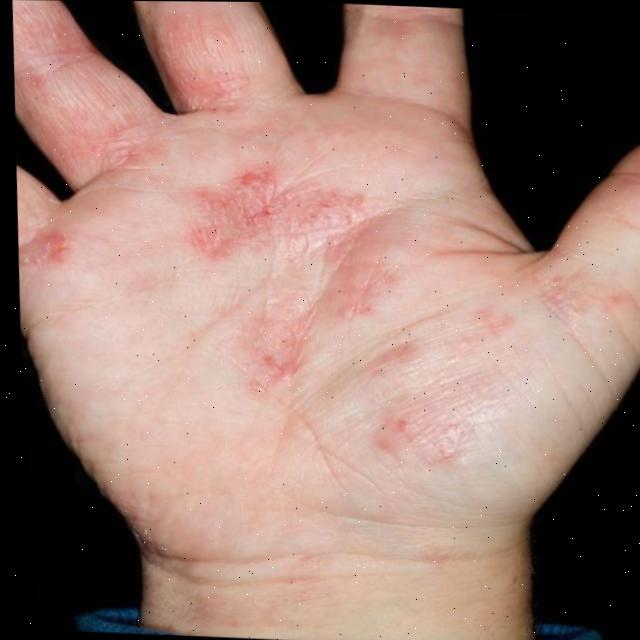Eczema: (32, 47, 433, 375)
